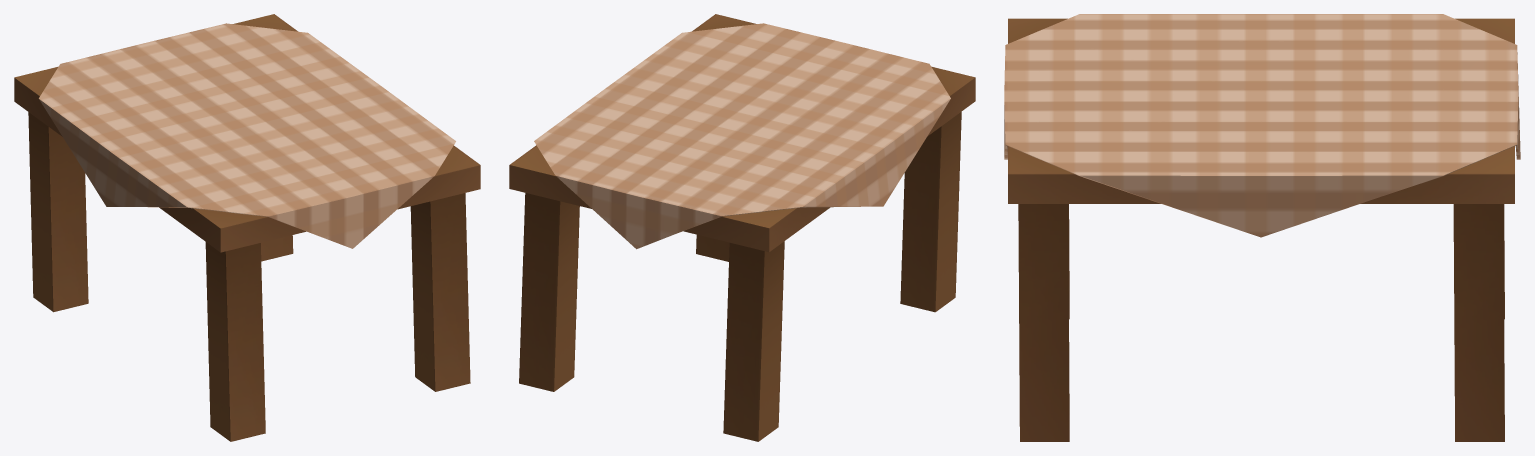
Rendered from table.FBX.
3 views of the same model, side by side, from view 1: azimuth 30°, elevation 25°; view 2: azimuth 150°, elevation 25°; view 3: azimuth 270°, elevation 25° (orthographic). The views are drawn at different scales.
Visible parts, largest first — view 1: table; view 2: table; view 3: table.
Part boxes in pixels (bbox=[...]): table: bbox=[14, 14, 480, 441]; table: bbox=[509, 14, 975, 441]; table: bbox=[1004, 14, 1520, 441].
Bounding box in the file's own units: 36.89 × 28.33 × 48.63.
